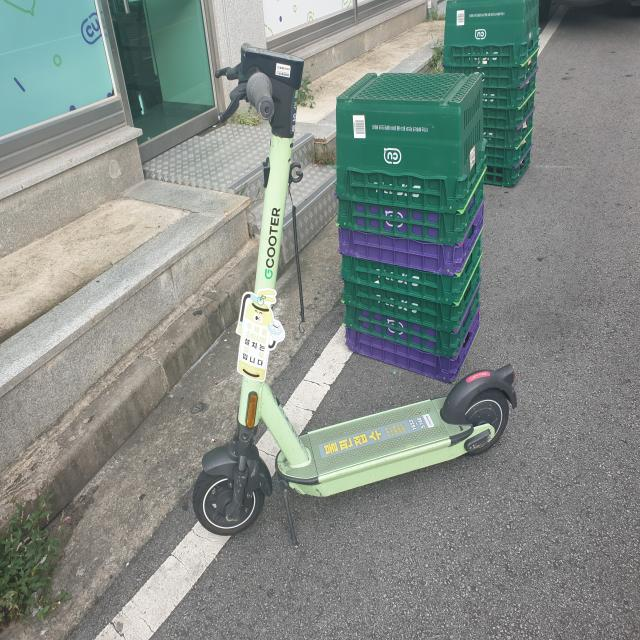bike: (191, 41, 519, 542)
